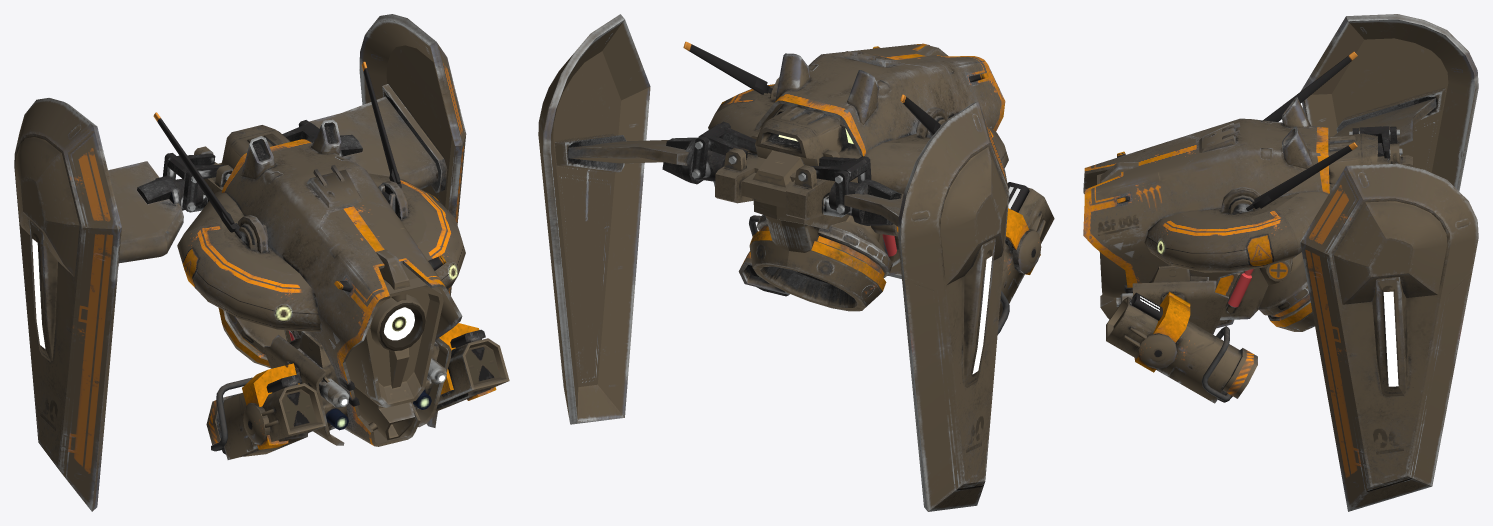
The model's file is dron.glb.
3 renders of one model, left to right at view 1: azimuth 30°, elevation 25°; view 2: azimuth 150°, elevation 25°; view 3: azimuth 270°, elevation 25°, orthographic. The views are drawn at different scales.
Visible parts, largest first — view 1: korpus_low; view 2: korpus_low; view 3: korpus_low.
Boxes of the visible parts, bbox=[...] form: korpus_low: bbox=[14, 14, 509, 511]; korpus_low: bbox=[538, 14, 1054, 511]; korpus_low: bbox=[1083, 14, 1478, 511].
Size of the model in its own units: 1.67 by 1.51 by 1.55.
3 materials, 1 textured.
